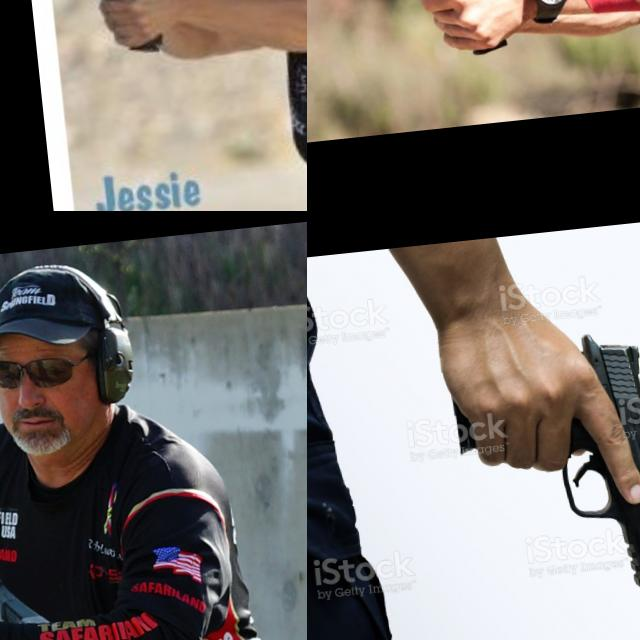handgun: (543, 321, 640, 605), (0, 542, 75, 634), (341, 0, 496, 42), (53, 0, 177, 41)
